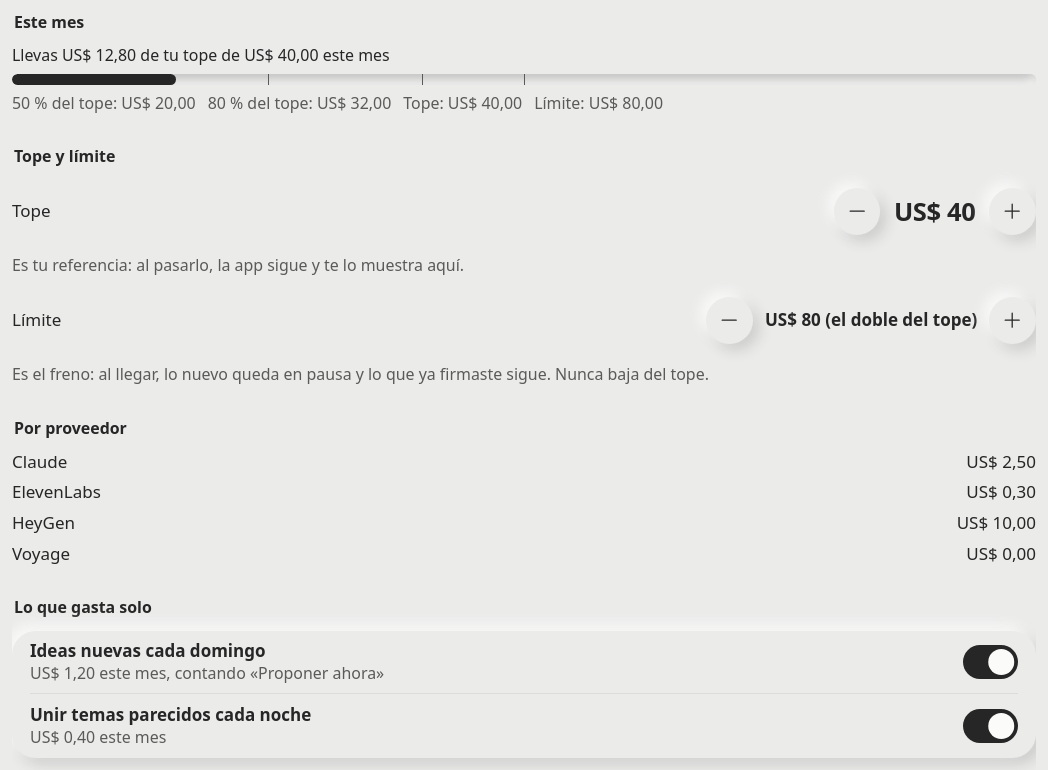
PantallaDePresupuesto › offers Deshacer after a save, which saves what was there
Click the button named "Subir el tope": x=1013, y=212 top-left (989, 188), bottom-right (1036, 235)
Wait 800 ms
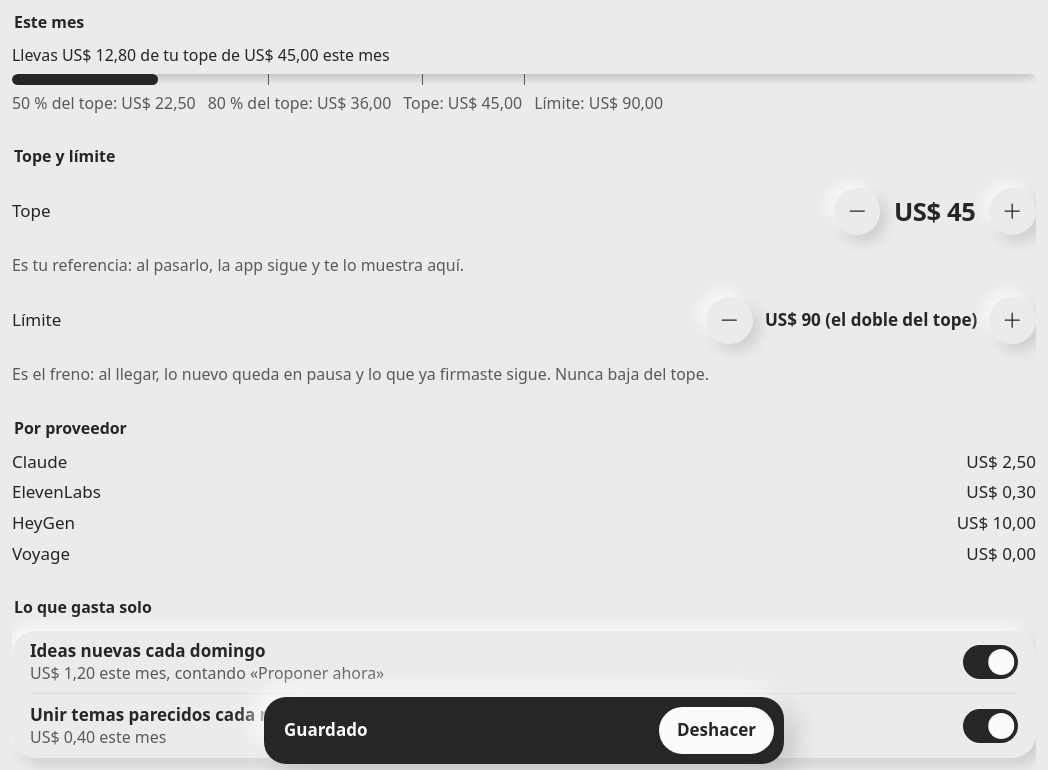
Click the button "Deshacer": x=716, y=731 top-left (659, 707), bottom-right (774, 754)
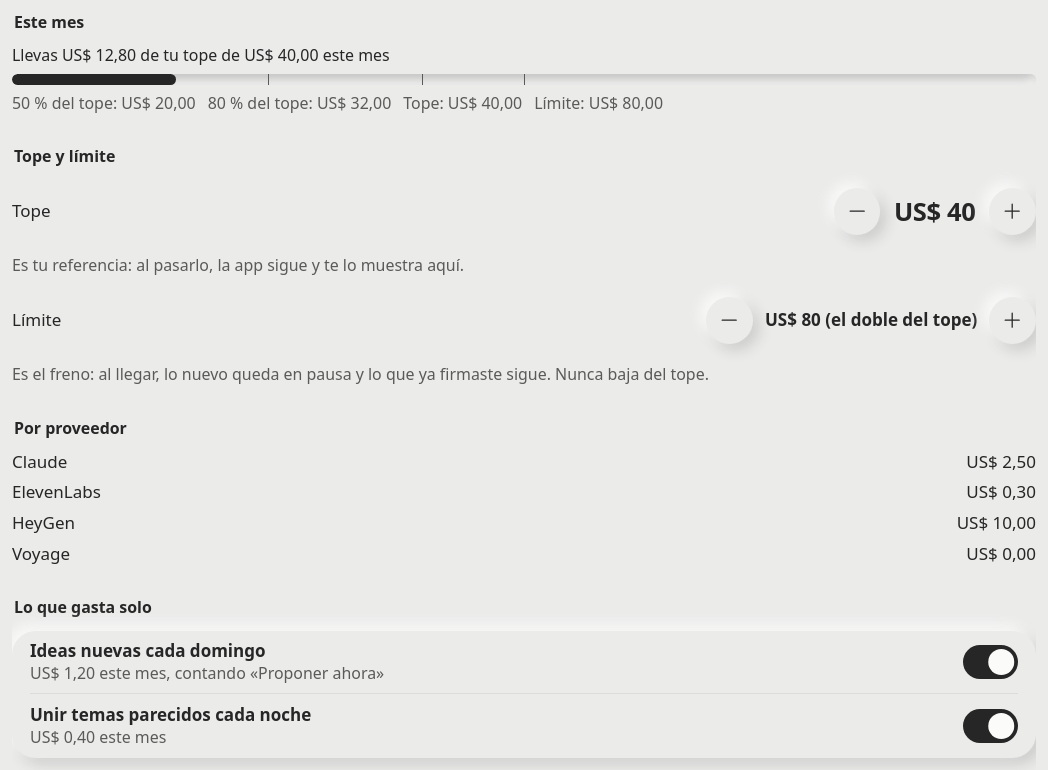
Expected: the text "US$ 40" is shown, top-left (892, 197), bottom-right (977, 226)
